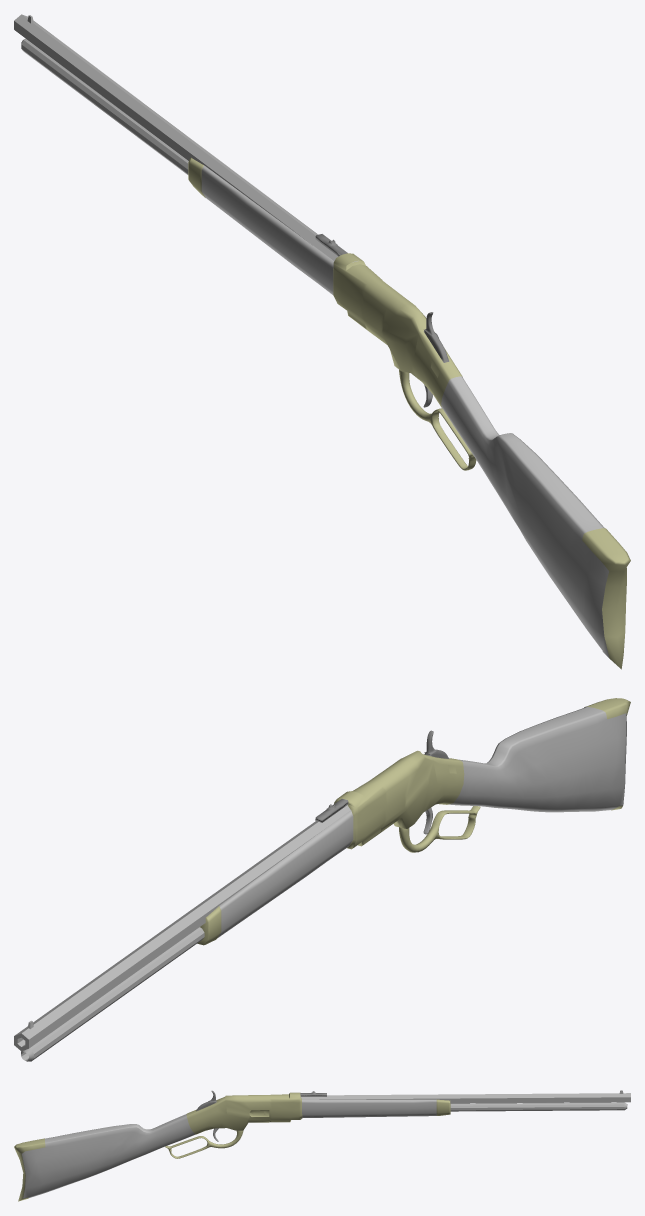
Rendered from Trapper_Rifle (1).fbx.
The picture shows the model from 3 angles, top to bottom: view 1: azimuth 30°, elevation 25°; view 2: azimuth 150°, elevation 25°; view 3: azimuth 270°, elevation 25°; orthographic projection. The views are drawn at different scales.
Visible parts, largest first — view 1: polySurface6; view 2: polySurface6; view 3: polySurface6.
Part boxes in pixels (x1=…): polySurface6: x1=14, y1=14, x2=630, y2=669; polySurface6: x1=14, y1=698, x2=630, y2=1061; polySurface6: x1=14, y1=1090, x2=630, y2=1201.
Bounding box in the file's own units: 21.13 × 132 × 662.
